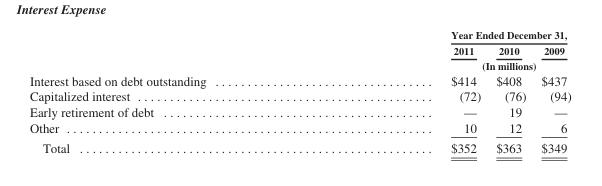table: (28, 28, 570, 154)
table column: (28, 28, 327, 154), (327, 28, 487, 154), (487, 28, 533, 154), (533, 28, 570, 154)
table column header: (28, 28, 570, 72)
table row: (28, 119, 570, 137), (28, 137, 570, 154), (28, 42, 570, 58), (28, 72, 570, 88), (28, 103, 570, 119), (28, 88, 570, 103), (28, 28, 570, 42), (28, 58, 570, 72)
table spanning cell: (327, 28, 570, 42), (327, 58, 570, 72)
